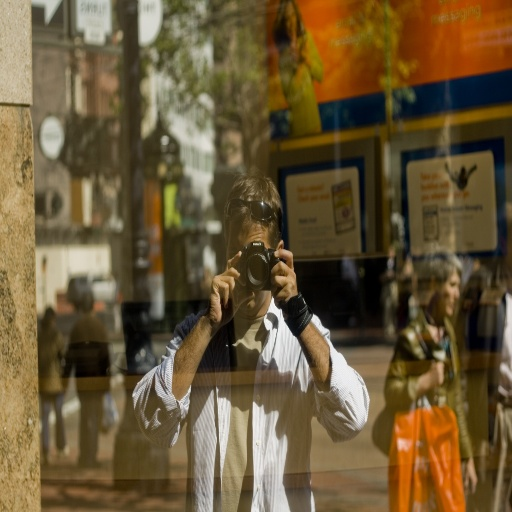hand: (200, 266, 239, 336), (270, 246, 302, 309), (430, 358, 442, 384)
